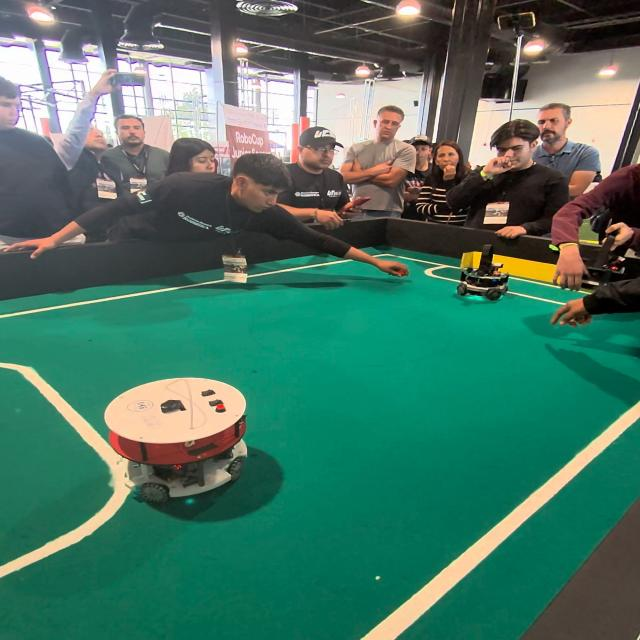Robot: (96, 362, 253, 523), (456, 245, 514, 309)
